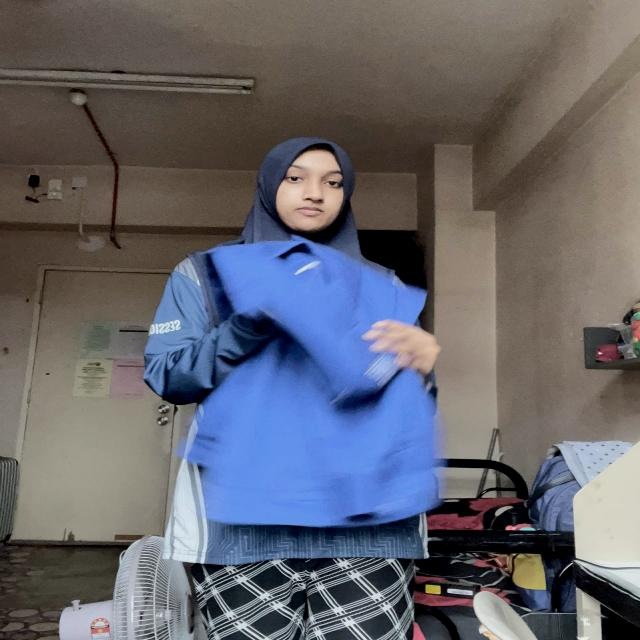person_without_labcoat: (144, 138, 438, 640)
